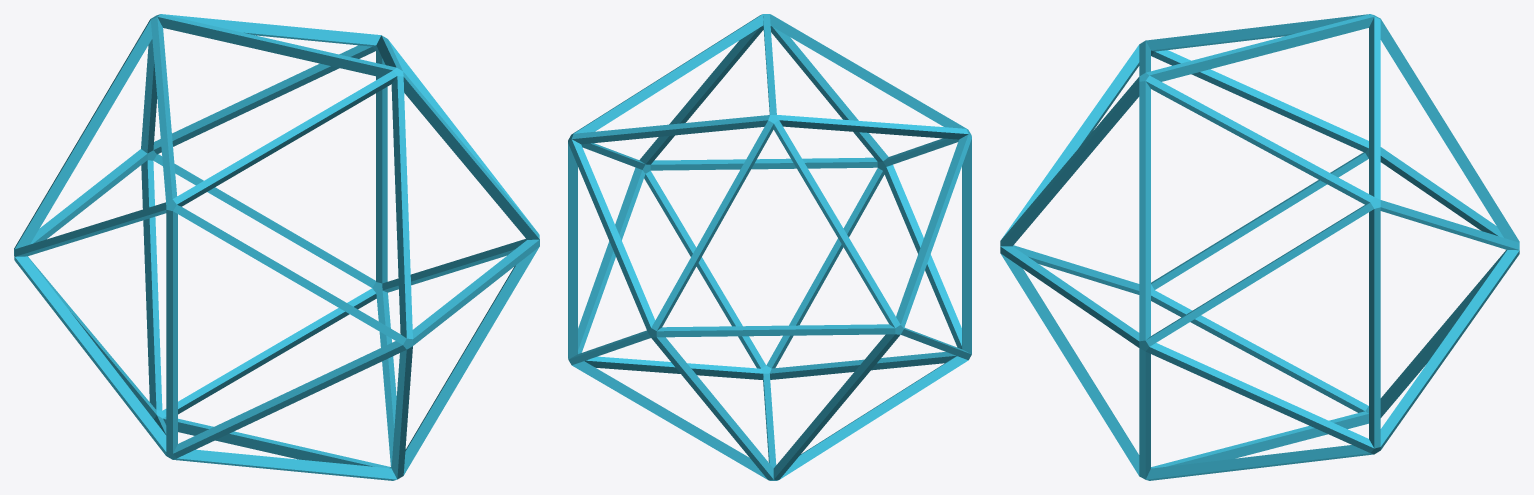
3 renders of one model, left to right at view 1: azimuth 30°, elevation 25°; view 2: azimuth 150°, elevation 25°; view 3: azimuth 270°, elevation 25°, orthographic. The views are drawn at different scales.
Parts seen in each view (by area): view 1: pPlatonic3; view 2: pPlatonic3; view 3: pPlatonic3.
Part boxes in pixels (x1,y1,x2,y2): pPlatonic3: [14, 14, 539, 480]; pPlatonic3: [568, 14, 971, 480]; pPlatonic3: [1000, 14, 1519, 480].
Size of the model in its own units: 3.72 by 3.54 by 4.11.
